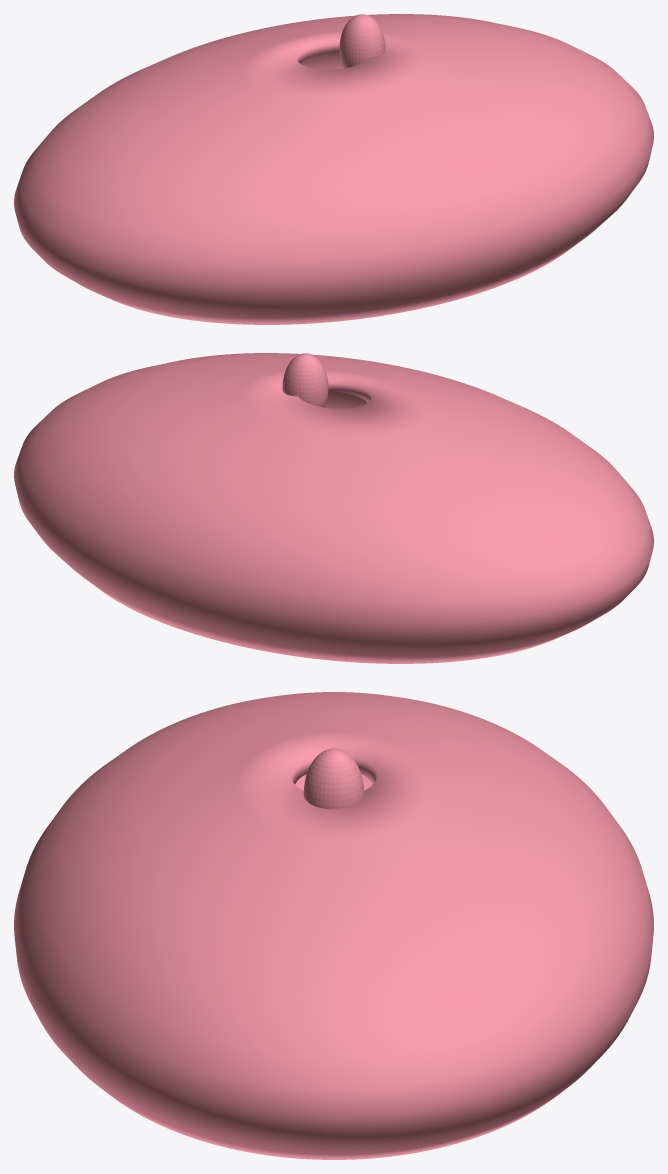
Rendered from beret.glb.
The picture shows the model from 3 angles, top to bottom: view 1: azimuth 30°, elevation 25°; view 2: azimuth 150°, elevation 25°; view 3: azimuth 270°, elevation 25°; orthographic projection. The views are drawn at different scales.
Parts seen in each view (by area): view 1: beret_crown, beret_stem; view 2: beret_crown, beret_stem; view 3: beret_crown, beret_stem.
Part boxes in pixels (x1=…): beret_crown: x1=14, y1=14, x2=653, y2=324; beret_stem: x1=339, y1=14, x2=385, y2=68; beret_crown: x1=14, y1=353, x2=653, y2=663; beret_stem: x1=282, y1=353, x2=328, y2=407; beret_crown: x1=14, y1=692, x2=653, y2=1159; beret_stem: x1=303, y1=748, x2=364, y2=809.
Bounding box in the file's own units: 1.04 × 0.345 × 0.7388.
